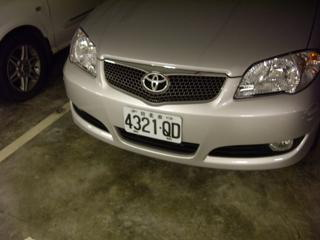plate: (122, 108, 183, 144)
